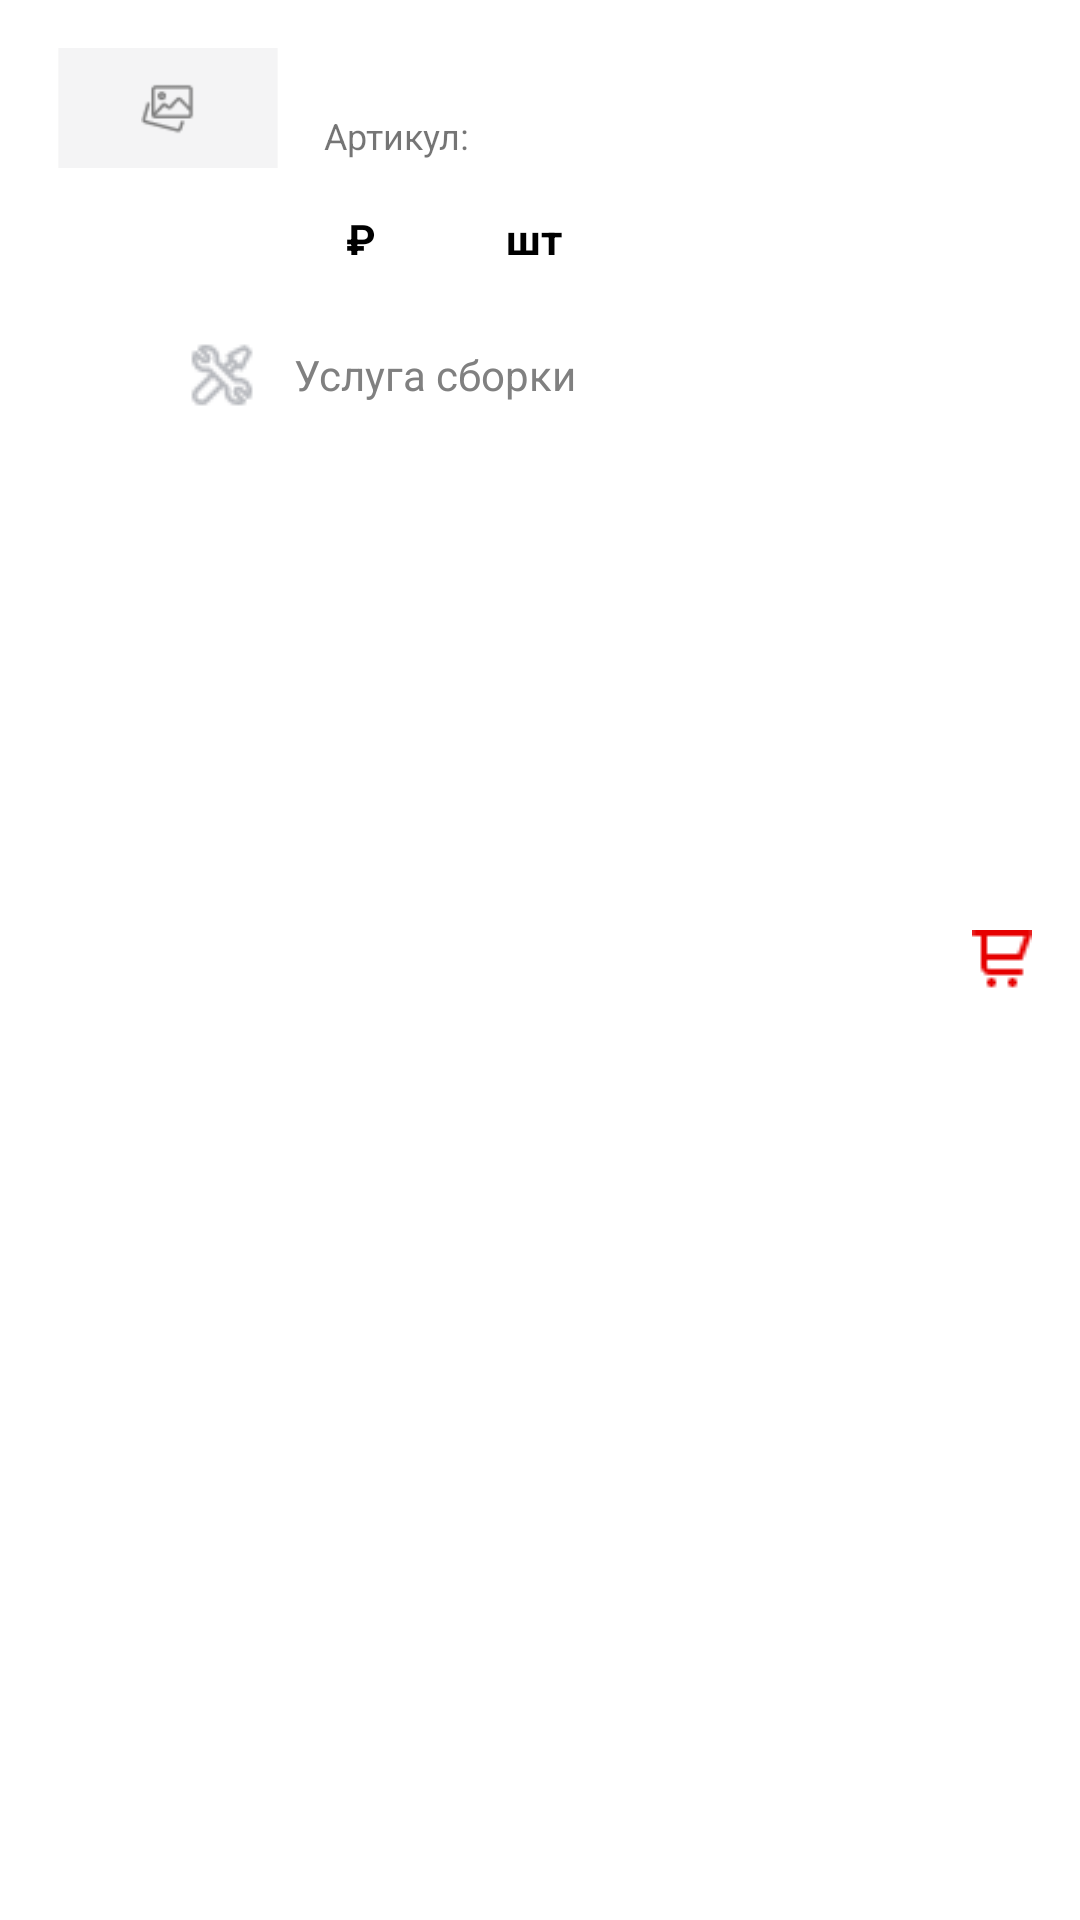

Where to tap for icons on this 1080*1920 app screen, as (x,y):
buy: (1002,959)
fix: (222,375)
